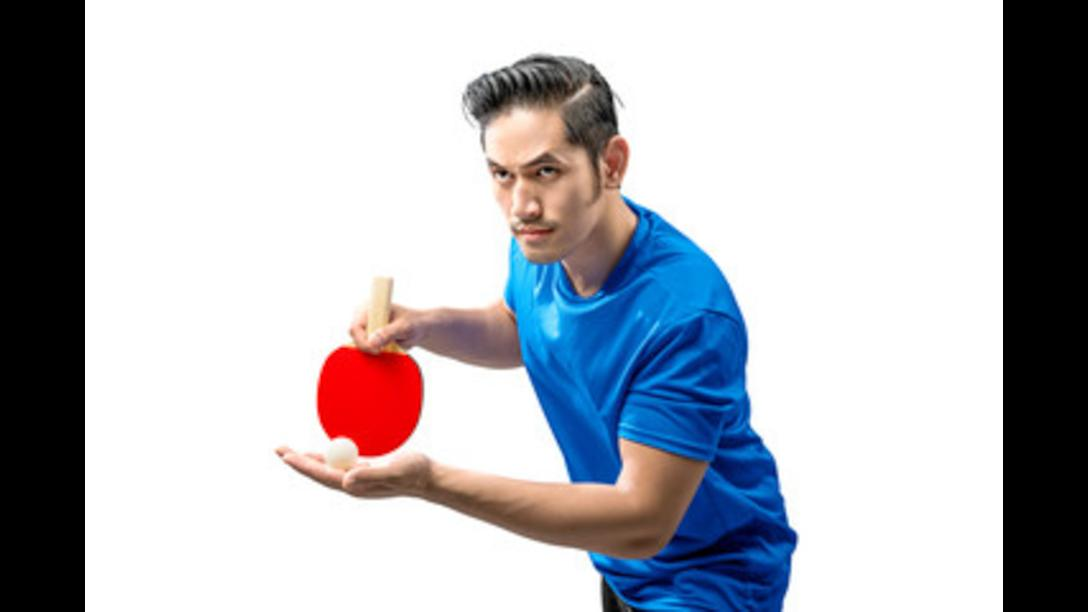Table-Tennis-Ball: (324, 439, 357, 467)
